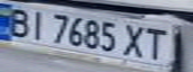5: (100, 18, 124, 54)
6: (66, 14, 87, 47)
7: (45, 10, 72, 44)
8: (81, 16, 103, 51)
B: (3, 4, 33, 38)
I: (24, 7, 48, 40)
T: (139, 24, 172, 60)
X: (118, 20, 151, 60)
